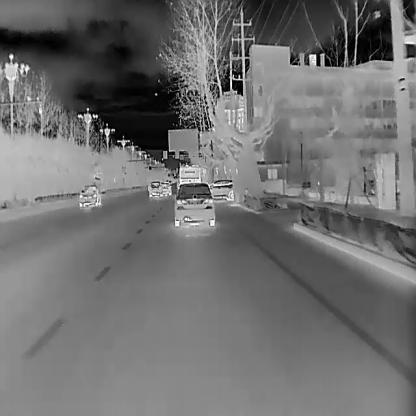bus: (178, 166, 200, 184)
car: (173, 182, 215, 226), (207, 178, 233, 200), (78, 184, 101, 206), (148, 180, 162, 198), (159, 180, 171, 195)
